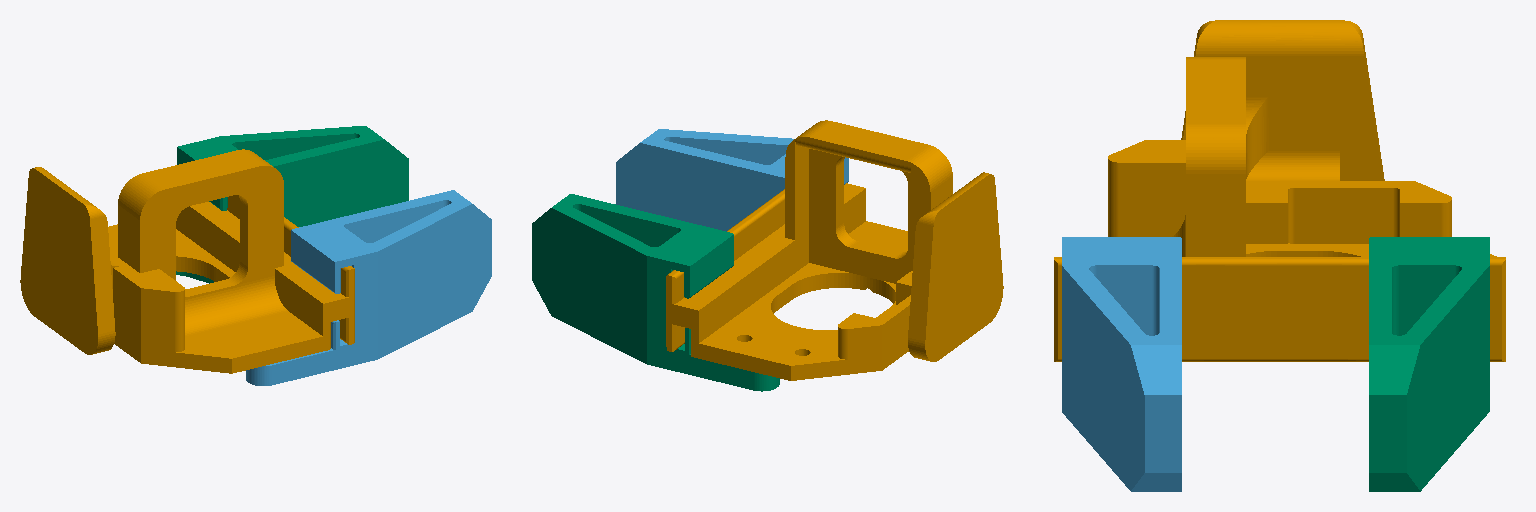
robot.urdf — niryo_two:
<?xml version="1.0" ?><robot name="niryo_two">
    <link name="world">
    </link>

    <link name="base_link" quat="0.9961946980917455 0.0 0.0 0.08715574274765817">
        <visual>
            <geometry>
                <mesh filename="[local-path]/niryo_project/meshes/arm_link.dae"/>
            </geometry>
        </visual>
        <collision>
            <geometry>
                <mesh filename="[local-path]/niryo_project/meshes/base_link.stl"/>
            </geometry>
        </collision>
    </link>

    <link name="shoulder_link" quat="0.984807753012208 -0.0 -0.0 -0.17364817766693033">
        <visual>
            <geometry>
                <mesh filename="[local-path]/niryo_project/meshes/shoulder_link.dae"/>
            </geometry>
        </visual>
        <collision>
            <geometry>
                <mesh filename="[local-path]/niryo_project/meshes/shoulder_link.stl"/>
            </geometry>
        </collision>
    </link>

    <link name="arm_link" quat="0.9659258262890683 0.0 0.0 0.25881904510252074">
        <visual>
            <geometry>
                <mesh filename="[local-path]/niryo_project/meshes/arm_link.dae"/>
            </geometry>
        </visual>
        <collision>
            <geometry>
                <mesh filename="[local-path]/niryo_project/meshes/arm_link.stl"/>
            </geometry>
        </collision>
    </link>

    <link name="elbow_link" quat="0.9396926207859084 -0.0 -0.0 -0.3420201433256687">
        <visual>
            <geometry>
                <mesh filename="[local-path]/niryo_project/meshes/elbow_link.dae"/>
            </geometry>
        </visual>
        <collision>
            <geometry>
                <mesh filename="elbow_link.stl"/>
            </geometry>
        </collision>
    </link>

    <link name="forearm_link" quat="0.9063077870366499 0.0 0.0 0.42261826174069944">
        <visual>
            <geometry>
                <mesh filename="forearm_link.dae"/>
            </geometry>
        </visual>
        <collision>
            <geometry>
                <mesh filename="forearm_link.stl"/>
            </geometry>
        </collision>
    </link>

    <link name="wrist_link" quat="0.8660254037844387 -0.0 -0.0 -0.49999999999999994">
        <visual>
            <geometry>
                <mesh filename="wrist_link.dae"/>
            </geometry>
        </visual>
        <collision>
            <geometry>
                <mesh filename="wrist_link.stl"/>
            </geometry>
        </collision>
    </link>

    <link name="hand_link">
        <visual>
            <geometry>
                <mesh filename="hand_link.dae"/>
            </geometry>
        </visual>
        <collision>
            <geometry>
                <mesh filename="hand_link.stl"/>
            </geometry>
        </collision>
    </link>

    <!-- Gripper Main Support -->
    <link name="gripper_main_support">
        <visual>
            <geometry>
                <mesh filename="g1_mainSupport.dae"/>
            </geometry>
        </visual>
        <collision>
            <geometry>
                <mesh filename="g1_mainSupport.stl"/>
            </geometry>
        </collision>
    </link>

            <!-- Gripper Left Clamp -->
    <link name="gripper_clamp_left">
        <visual>
            <geometry>
                <mesh filename="meshes/g1_clampLeft.dae"/>
            </geometry>
        </visual>
        <collision>
            <geometry>
                <mesh filename="meshes/g1_clampLeft.stl"/>
            </geometry>
        </collision>
    </link>

        <!-- Gripper Right Clamp -->
    <link name="gripper_clamp_right">
        <visual>
            <geometry>
                <mesh filename="meshes/g1_clampRight.dae"/>
            </geometry>
        </visual>
        <collision>
            <geometry>
                <mesh filename="meshes/g1_clampRight.stl"/>
            </geometry>
        </collision>
    </link>


    <!-- Joints -->
    <joint name="joint_world" type="fixed">
        <parent link="world"/>
        <child link="base_link"/>
        <origin xyz="0 0 0" rpy="0 0 0"/>
    </joint>

    <joint name="joint_1" type="revolute">
        <parent link="base_link"/>
        <child link="shoulder_link"/>
        <origin xyz="0 0 0.103" rpy="0 0 0"/>
        <axis xyz="0 0 1"/>
        <limit effort="1" velocity="1.0" lower="-3.05433" upper="3.05433"/>
    </joint>

    <joint name="joint_2" type="revolute">
        <parent link="shoulder_link"/>
        <child link="arm_link"/>
        <origin xyz="0 0 0.08" rpy="1.57079632679 -1.57079632679 0"/>
        <axis xyz="0 0 1"/>
        <limit effort="1" velocity="1.0" lower="-1.57080" upper="0.640187"/>
    </joint>

    <joint name="joint_3" type="revolute">
        <parent link="arm_link"/>
        <child link="elbow_link"/>
        <origin xyz="0.21 0.0 0" rpy="0 0 -1.57079632679"/>
        <axis xyz="0 0 1"/>
        <limit effort="1" velocity="1.0" lower="-1.397485" upper="1.57079632679"/>
    </joint>

    <joint name="joint_4" type="revolute">
        <parent link="elbow_link"/>
        <child link="forearm_link"/>
        <origin xyz="0.0415 0.03 0" rpy="0 1.57079632679 0"/>
        <axis xyz="0 0 1"/>
        <limit effort="1" velocity="1.0" lower="-3.05433" upper="3.05433"/>
    </joint>

    <joint name="joint_5" type="revolute">
        <parent link="forearm_link"/>
        <child link="wrist_link"/>
        <origin xyz="0 0 0.19" rpy="0 -1.57079632679 0"/>
        <axis xyz="0 0 1"/>
        <limit effort="1" velocity="1.0" lower="-1.74533" upper="1.91986"/>
    </joint>

    <joint name="joint_6" type="revolute">
        <parent link="wrist_link"/>
        <child link="hand_link"/>
        <origin xyz="0.0164 -0.0055 0" rpy="0 1.57079632679 0"/>
        <axis xyz="0 0 1"/>
        <limit effort="1" velocity="1.0" lower="-2.57436" upper="2.57436"/>
    </joint>

    <joint name="g1_main_support_joint" type="fixed">
        <parent link="hand_link"/>
        <child link="gripper_main_support"/>
        <origin xyz="0 0 0.0203" rpy="0 -3.1415 0"/> <!-- Rotated 90 degrees around x-axis -->
    </joint>

    <joint name="left_clamp_joint" type="prismatic">
        <parent link="gripper_main_support"/>
        <child link="gripper_clamp_left"/>
        <origin xyz="0 0 0" rpy="0 0 0"/>
        <axis xyz="1 0 0"/>
        <limit effort="1" velocity="3.0" lower="-0.012" upper="0"/>
    </joint>

    <joint name="right_clamp_joint" type="prismatic">
        <parent link="gripper_main_support"/>
        <child link="gripper_clamp_right"/>
        <origin xyz="0 0 0" rpy="0 0 0"/>
        <axis xyz="1 0 0"/>
        <limit effort="1" velocity="3.0" lower="0" upper="0.012"/>
    </joint>
</robot>

--- Facts derived from the render (not from the file) ---
The picture shows the robot from 3 angles, left to right: view 1: azimuth 30°, elevation 25°; view 2: azimuth 150°, elevation 25°; view 3: azimuth 270°, elevation 25°; orthographic projection.
Model niryo_two with 11 links and 10 joints (6 revolute, 2 prismatic, 2 fixed), rooted at world, posed all joints at 0.
Links seen in each view (by area): view 1: gripper_main_support, gripper_clamp_left, gripper_clamp_right; view 2: gripper_main_support, gripper_clamp_right, gripper_clamp_left; view 3: gripper_main_support, gripper_clamp_right, gripper_clamp_left.
Link boxes in pixels (x1,y1,x2,y2): gripper_main_support: (20, 149, 354, 373); gripper_clamp_left: (246, 190, 491, 385); gripper_clamp_right: (176, 126, 408, 283); gripper_main_support: (666, 120, 1003, 380); gripper_clamp_right: (532, 194, 779, 391); gripper_clamp_left: (616, 129, 848, 231); gripper_main_support: (1054, 20, 1505, 361); gripper_clamp_right: (1369, 237, 1489, 491); gripper_clamp_left: (1062, 237, 1181, 491).
Bounding box of the posed robot: 0.0796 × 0.06 × 0.0353 m (x, y, z).
3 mesh visuals loaded from 6 distinct referenced files (3 Collada DAE); not drawn: 3 (reference not matched to a file when rendering), 4 (reference in a form the renderer does not follow; not among the files counted above).